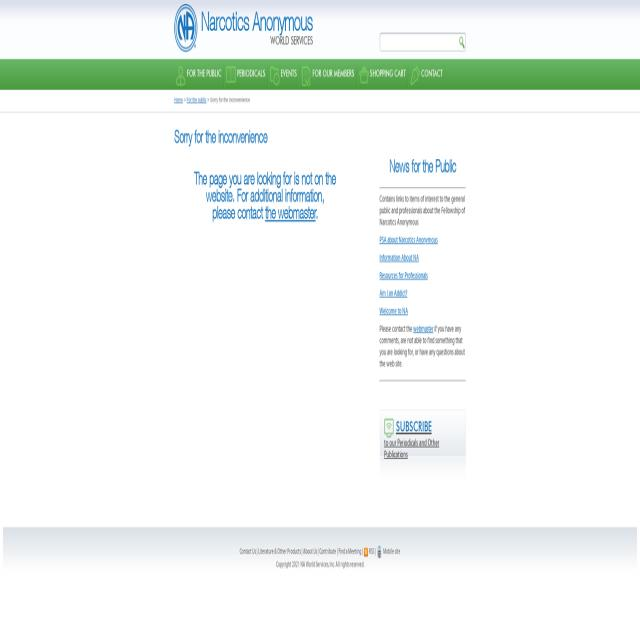button: (174, 5, 313, 52), (300, 59, 358, 90), (174, 59, 224, 90), (358, 59, 408, 90), (224, 59, 268, 90), (408, 59, 446, 90), (268, 59, 300, 90), (459, 36, 465, 49), (377, 546, 382, 558), (364, 547, 368, 558)
field: (380, 33, 466, 52)
